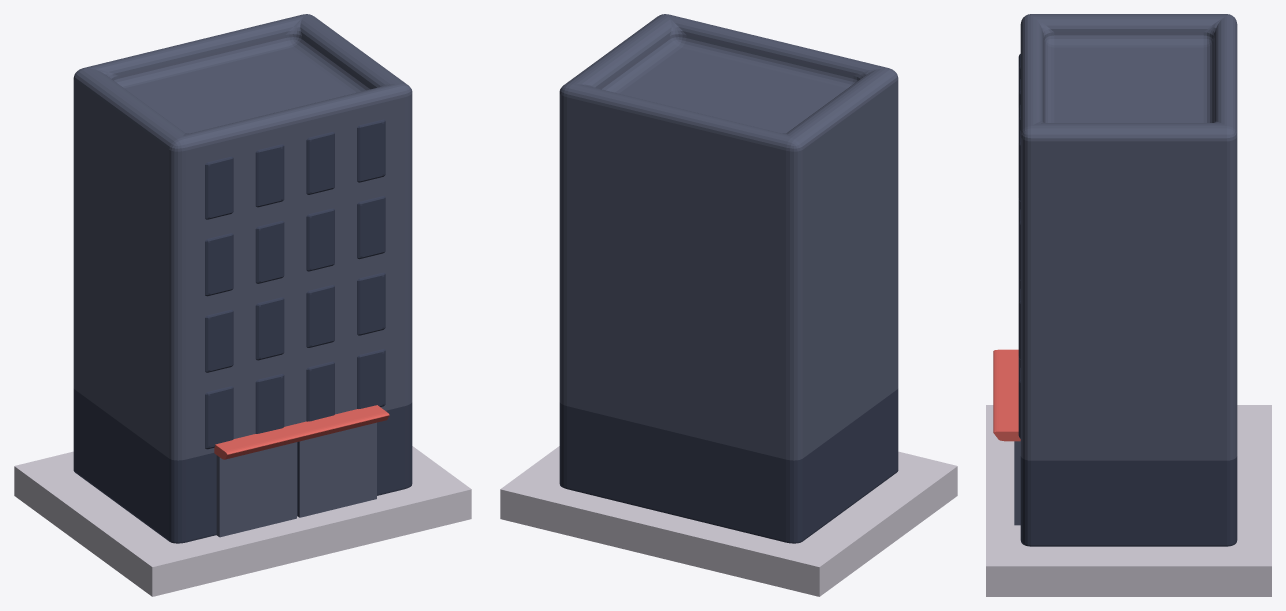
File: concrete_tall_building.fbx
3 renders of one model, left to right at view 1: azimuth 30°, elevation 25°; view 2: azimuth 150°, elevation 25°; view 3: azimuth 270°, elevation 25°, orthographic. The views are drawn at different scales.
Parts seen in each view (by area): view 1: building, window, Cube.044, building door, roof; view 2: building, Cube.044; view 3: building, Cube.044, roof, window, building door.
Boxes of the visible parts, bbox=[...] form: building: bbox=[73, 14, 412, 543]; window: bbox=[205, 119, 385, 449]; Cube.044: bbox=[14, 446, 471, 596]; building door: bbox=[216, 422, 376, 537]; roof: bbox=[214, 405, 389, 459]; building: bbox=[559, 14, 898, 543]; Cube.044: bbox=[500, 446, 957, 596]; building: bbox=[1020, 14, 1237, 546]; Cube.044: bbox=[986, 405, 1271, 596]; roof: bbox=[993, 349, 1020, 441]; window: bbox=[1018, 54, 1020, 438]; building door: bbox=[1014, 441, 1020, 525].
Bounding box in the file's own units: 409 × 528 × 307.
